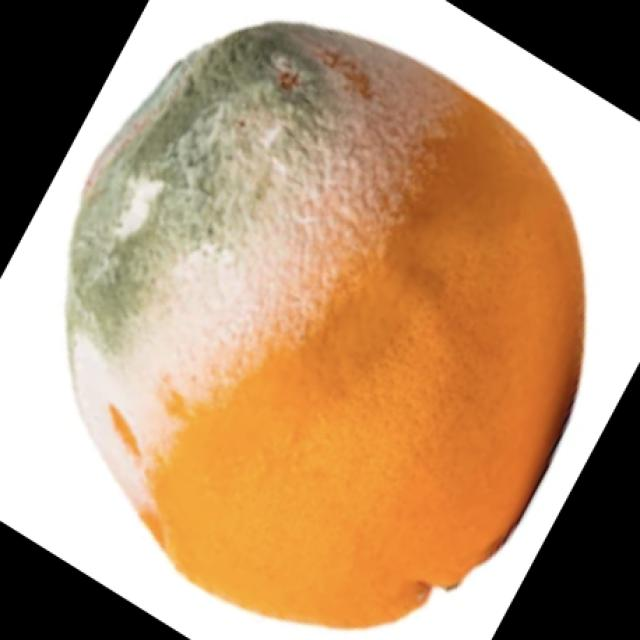sedikit_busuk: (69, 23, 587, 623)
